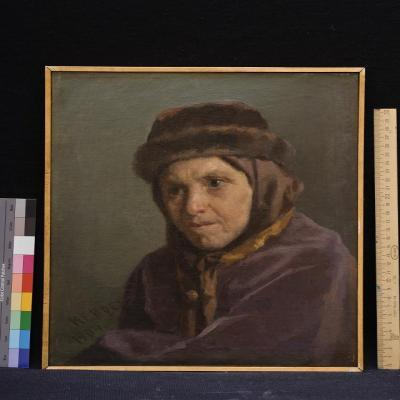painting: (44, 66, 364, 372)
